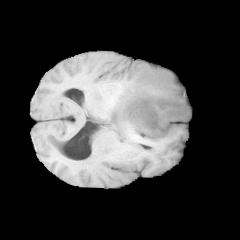glioma: (108, 68, 188, 141)
